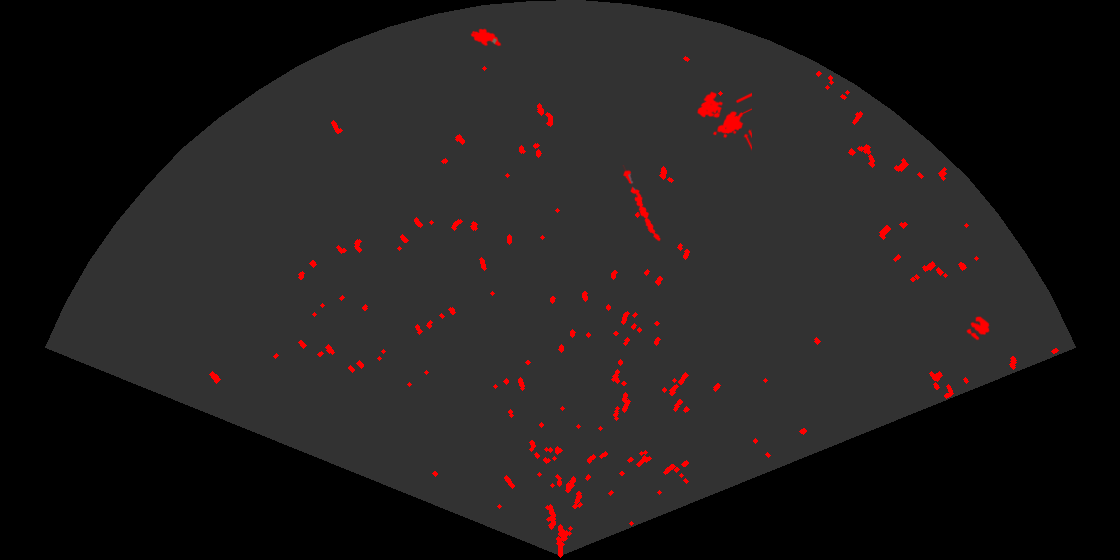AUV: (469, 27, 503, 48)
ball: (965, 315, 991, 342)
cage: (695, 90, 752, 152)
chain: (621, 165, 662, 243)
